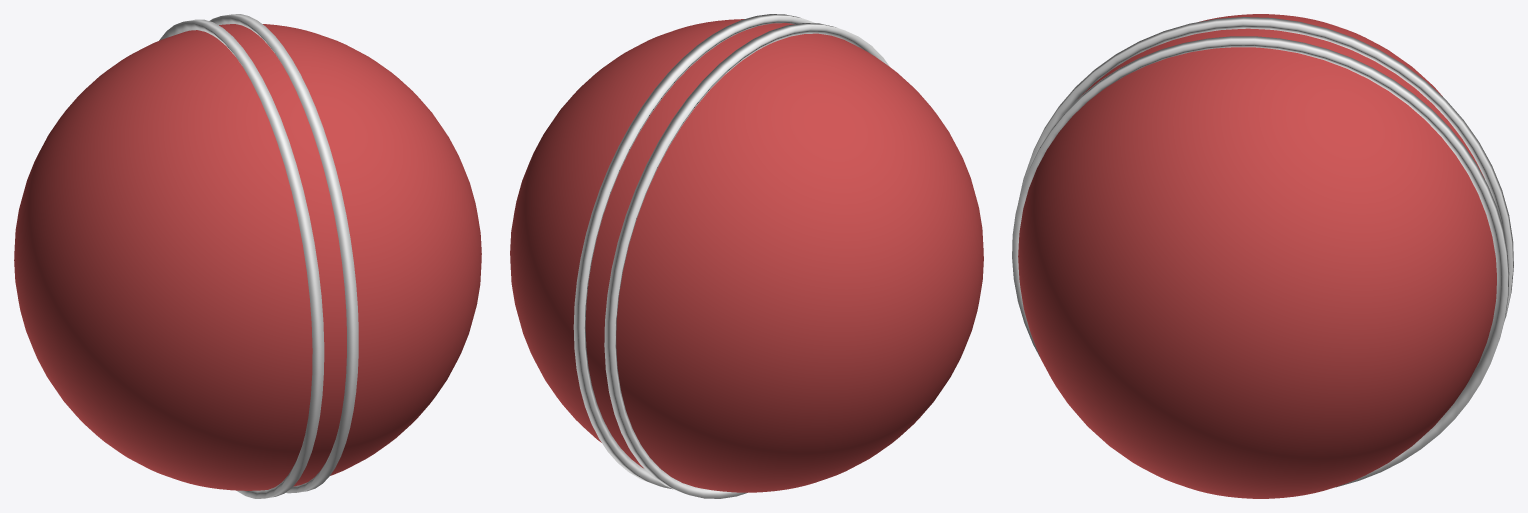
Rendered from Cricket ball.glb.
3 renders of one model, left to right at view 1: azimuth 30°, elevation 25°; view 2: azimuth 150°, elevation 25°; view 3: azimuth 270°, elevation 25°, orthographic. The views are drawn at different scales.
Visible parts, largest first — view 1: Sphere - baked, Torus 1, Torus; view 2: Sphere - baked, Torus 1, Torus; view 3: Sphere - baked, Torus, Torus 1.
Part boxes in pixels (x1,y1,x2,y2): Sphere - baked: (14,24,481,490); Torus 1: (159,19,324,498); Torus: (209,14,358,493); Sphere - baked: (510,19,983,492); Torus 1: (604,23,889,498); Torus: (573,14,815,489); Sphere - baked: (1018,14,1496,498); Torus: (1012,36,1509,487); Torus 1: (1018,17,1513,321).
Bounding box in the file's own units: 0.1 × 0.1035 × 0.1034.
